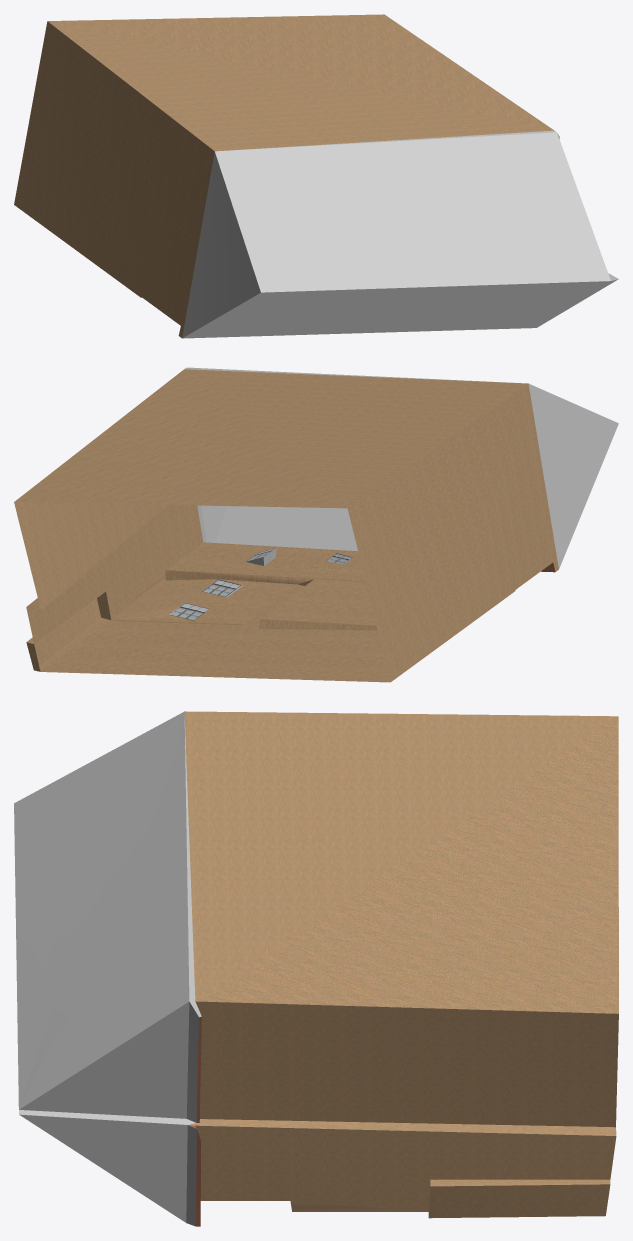
The model's file is Vene_25a-origo.obj.
3 renders of one model, top to bottom at view 1: azimuth 30°, elevation 25°; view 2: azimuth 150°, elevation 25°; view 3: azimuth 270°, elevation 25°, orthographic. The views are drawn at different scales.
Visible parts, largest first — view 1: Vene_25a; view 2: Vene_25a; view 3: Vene_25a.
Boxes of the visible parts, x1,y1,x2,y2 form: Vene_25a: (14, 14, 618, 338); Vene_25a: (14, 367, 618, 682); Vene_25a: (14, 711, 618, 1226).
Size of the model in its own units: 21.12 by 13.5 by 23.37.
